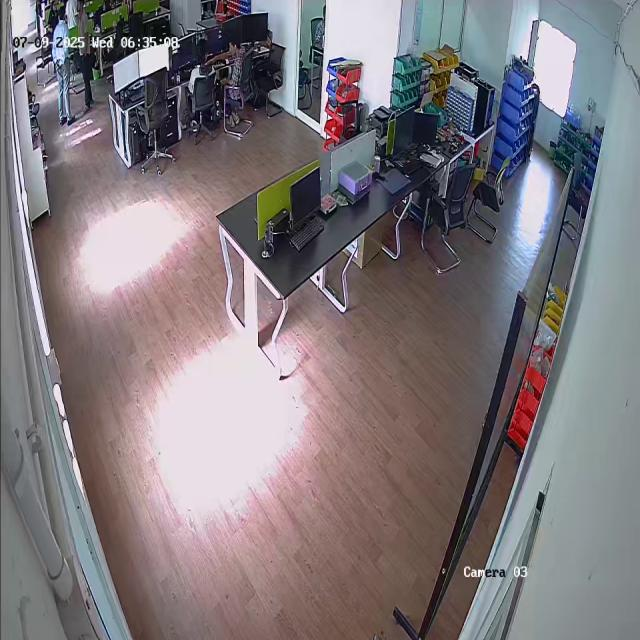person: (51, 6, 77, 125), (74, 2, 98, 116), (220, 37, 249, 108)
